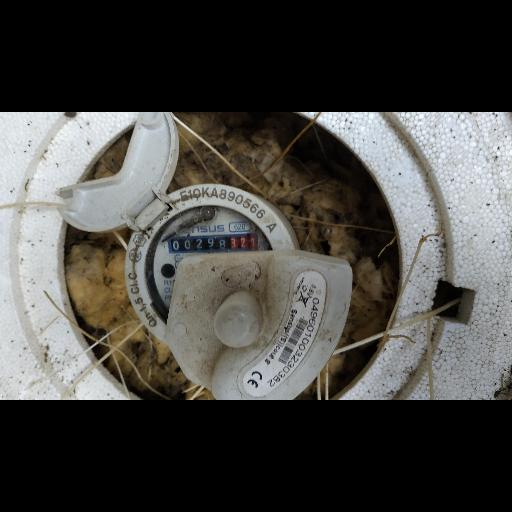0: (184, 239, 193, 252), (172, 239, 180, 252)
1: (250, 235, 257, 250)
2: (195, 238, 204, 251), (239, 237, 247, 249)
3: (230, 237, 238, 250)
8: (218, 237, 228, 251)
9: (207, 237, 215, 250)
border_water_meter_number: (167, 233, 258, 254)
